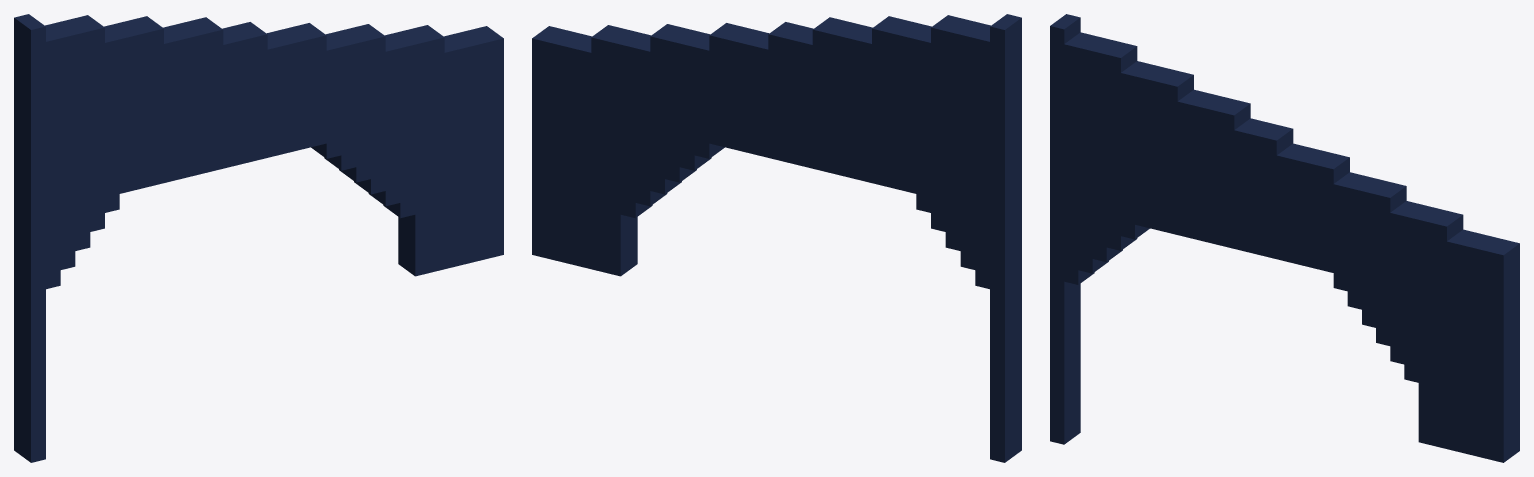
File: minivan_front_wing.glb
The picture shows the model from 3 angles, left to right: view 1: azimuth 30°, elevation 25°; view 2: azimuth 150°, elevation 25°; view 3: azimuth 330°, elevation 25°; orthographic projection. The views are drawn at different scales.
Parts seen in each view (by area): view 1: body:compound; view 2: body:compound; view 3: body:compound.
Part boxes in pixels (bbox=[...]): body:compound: bbox=[14, 14, 503, 462]; body:compound: bbox=[532, 14, 1021, 462]; body:compound: bbox=[1050, 14, 1519, 462].
Bounding box in the file's own units: 1 × 0.875 × 0.0625.
